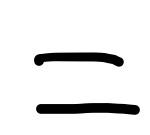eqv: (34, 52, 140, 115)
